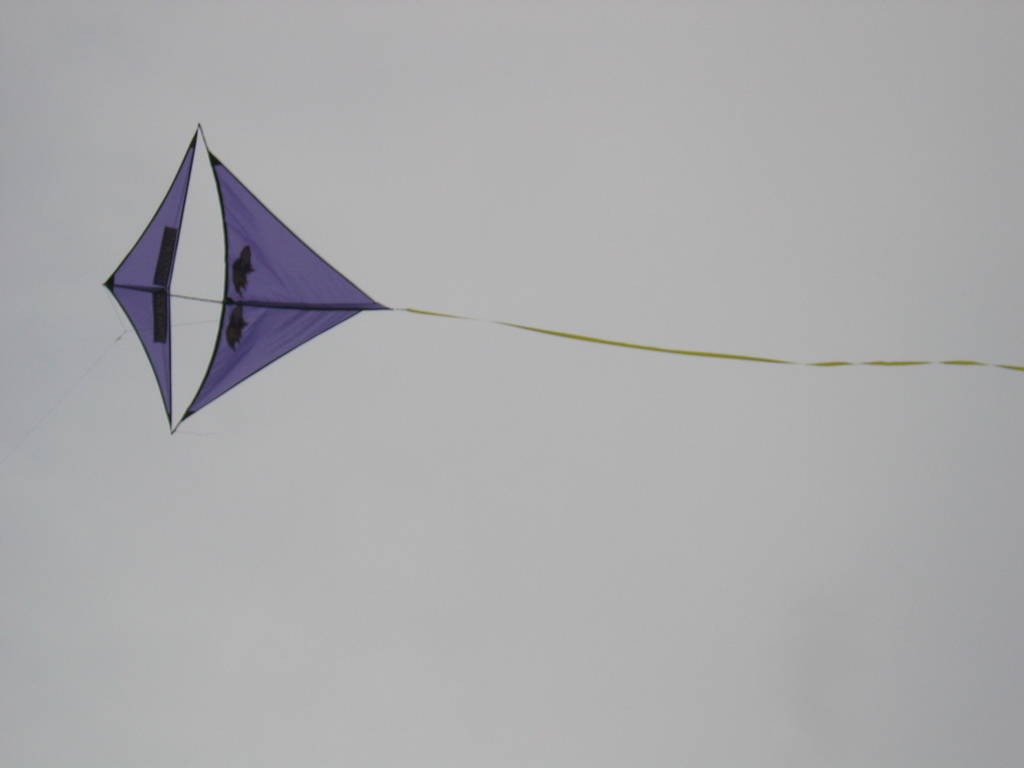kite: (76, 110, 402, 450)
